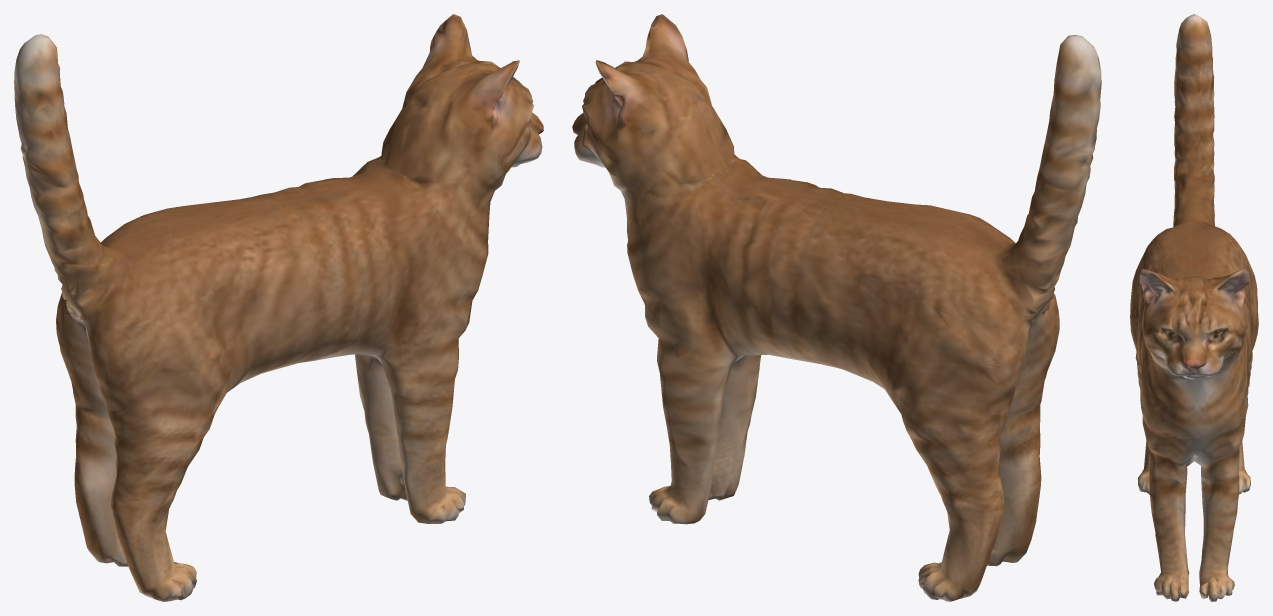
File: DATASPOT-lo.glb
3 views of the same model, side by side, from view 1: azimuth 30°, elevation 25°; view 2: azimuth 150°, elevation 25°; view 3: azimuth 270°, elevation 25° (orthographic). The views are drawn at different scales.
Parts seen in each view (by area): view 1: tripo_node_e4fa30f5-2b5f-4322-94ac-64ed53b3e90f; view 2: tripo_node_e4fa30f5-2b5f-4322-94ac-64ed53b3e90f; view 3: tripo_node_e4fa30f5-2b5f-4322-94ac-64ed53b3e90f.
Part boxes in pixels (<box>): tripo_node_e4fa30f5-2b5f-4322-94ac-64ed53b3e90f: <box>14,14,543,601</box>; tripo_node_e4fa30f5-2b5f-4322-94ac-64ed53b3e90f: <box>572,14,1101,601</box>; tripo_node_e4fa30f5-2b5f-4322-94ac-64ed53b3e90f: <box>1130,14,1258,601</box>.
Size of the model in its own units: 0.9648 by 0.9989 by 0.2675.
Materials: 1 (1 with a texture image).
